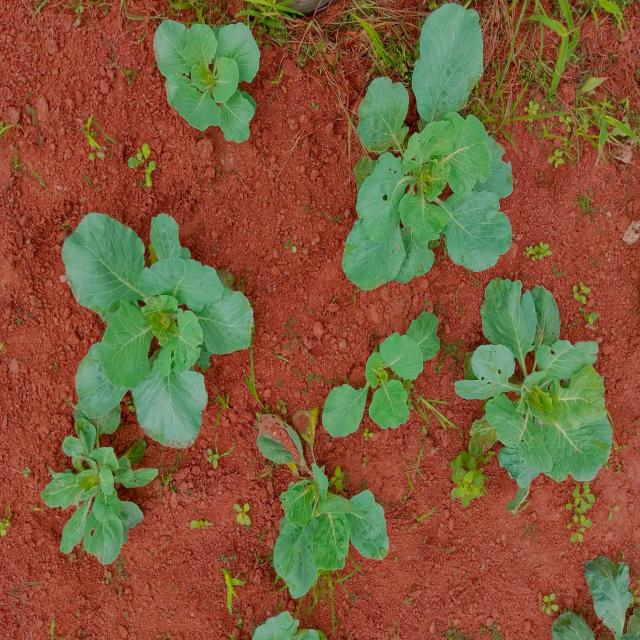Cabbage: (342, 3, 528, 283), (54, 197, 256, 443), (449, 285, 617, 505), (263, 461, 393, 600), (319, 304, 448, 441), (36, 430, 154, 572), (146, 14, 264, 150), (546, 553, 640, 640), (236, 611, 325, 640)
